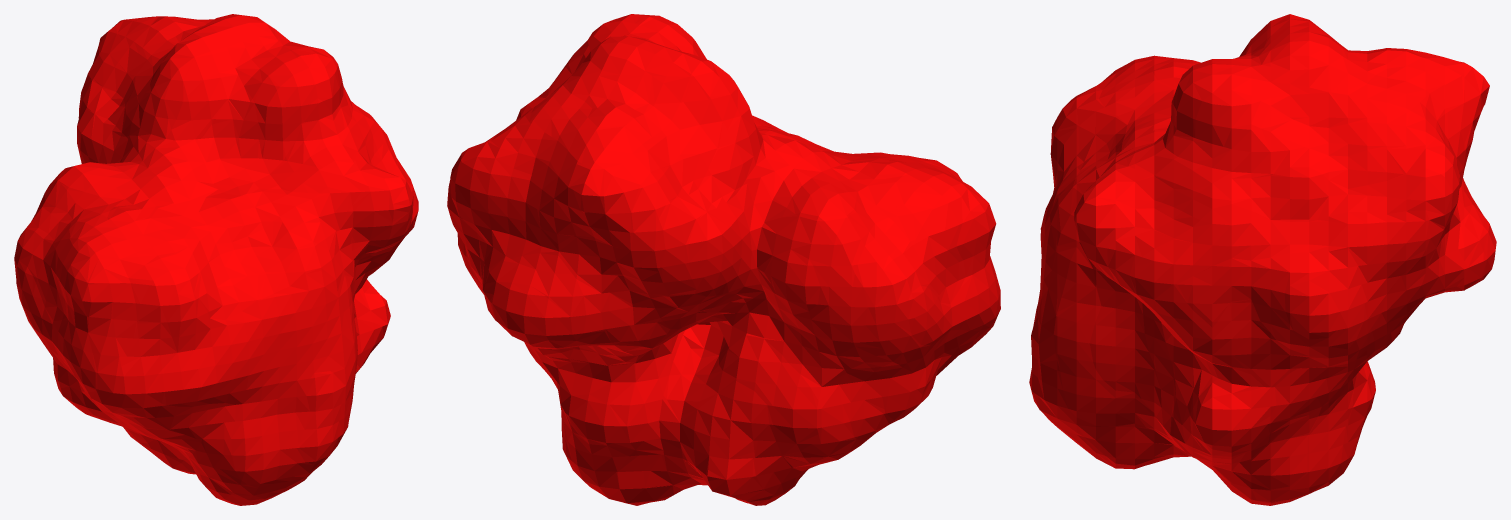
File: uxuB_coarse.dae
The picture shows the model from 3 angles, left to right: view 1: azimuth 30°, elevation 25°; view 2: azimuth 150°, elevation 25°; view 3: azimuth 270°, elevation 25°; orthographic projection. The views are drawn at different scales.
Visible parts, largest first — view 1: uxuB; view 2: uxuB; view 3: uxuB.
Part boxes in pixels (x1,y1,x2,y2): uxuB: (14,14,418,505); uxuB: (447,14,1000,505); uxuB: (1029,14,1496,505).
Size of the model in its own units: 62.93 by 64.34 by 59.2.
